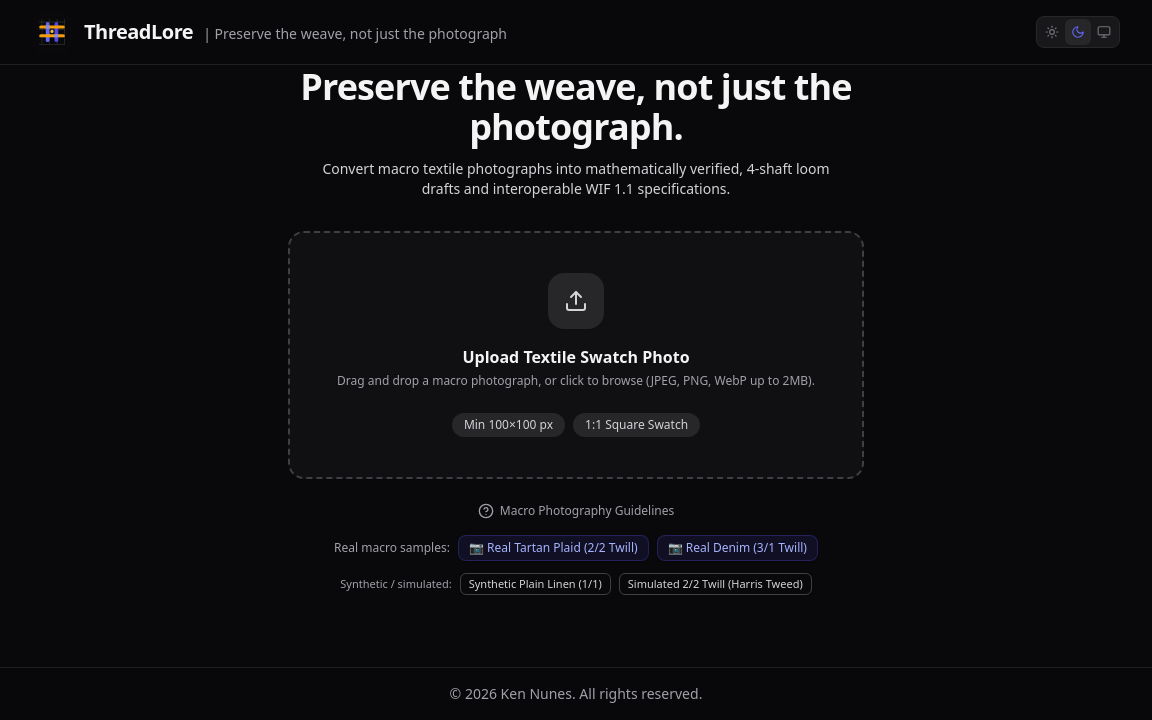
Test: Crop Quality Guard and UI Polish › should disable Confirm & Analyze when crop resolution is below 100px minimum
(page scrolled)
Navigate to crop step
Step 1. Click the button "Synthetic Plain Linen (1/1)" → coordinates (535, 584), box [460,573,611,595]
(page scrolled)
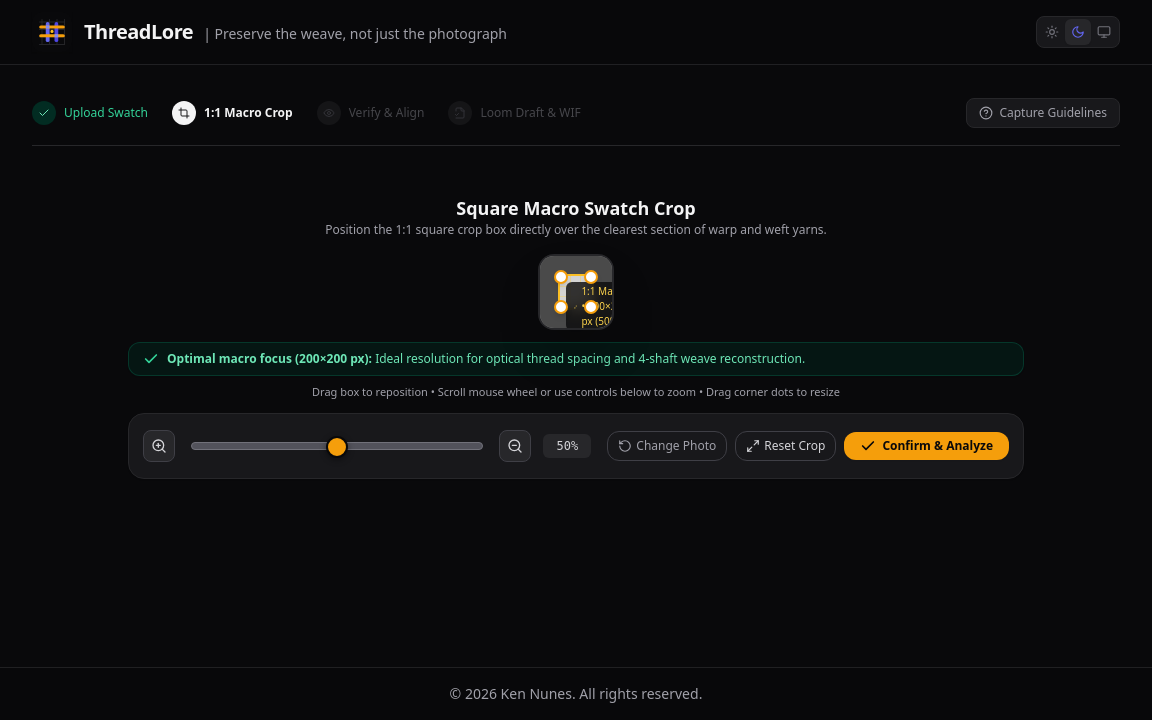
Expected: the heading "Square Macro Swatch Crop" is shown, [456,196,696,220]
Step 2. Set the slider named "Crop area zoom scale" to "0.05" → coordinates (199, 446), box [191,442,483,450]
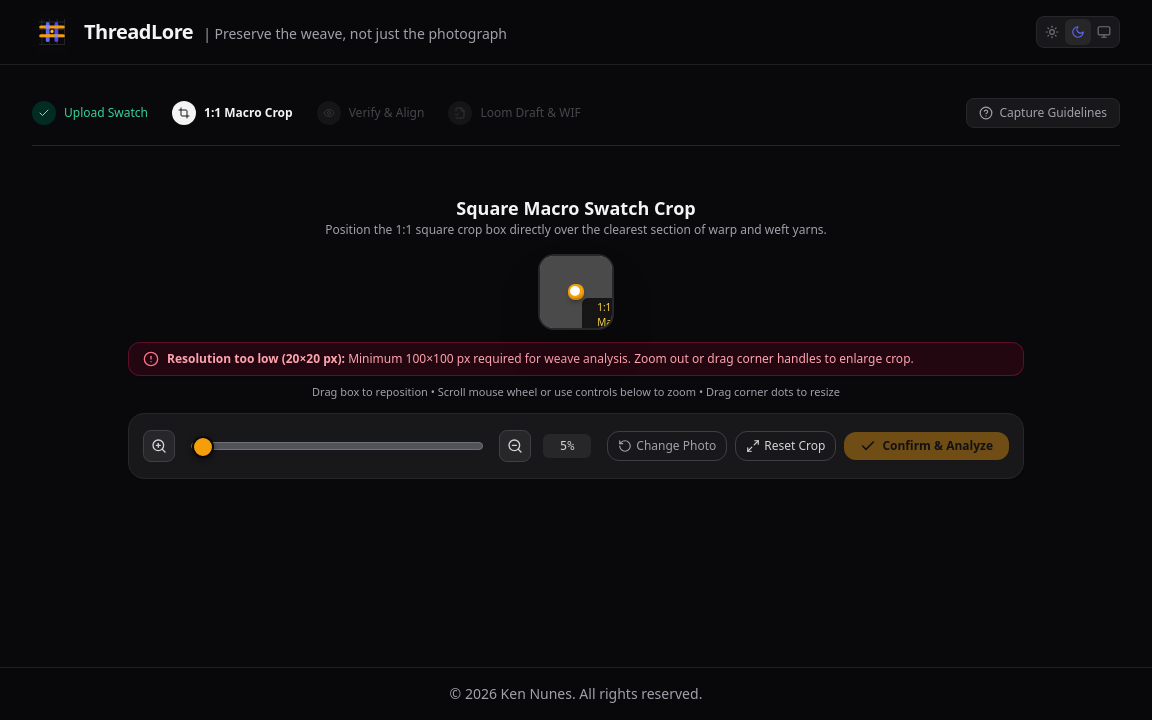
Expected: the text "Resolution too low (20×20 px):" is shown, [167,350,348,367]
Expected: the text "Minimum 100×100 px required for weave analysis" is shown, [348,350,914,367]
Expected: the button "Confirm & Analyze" is disabled, [844,432,1009,460]
